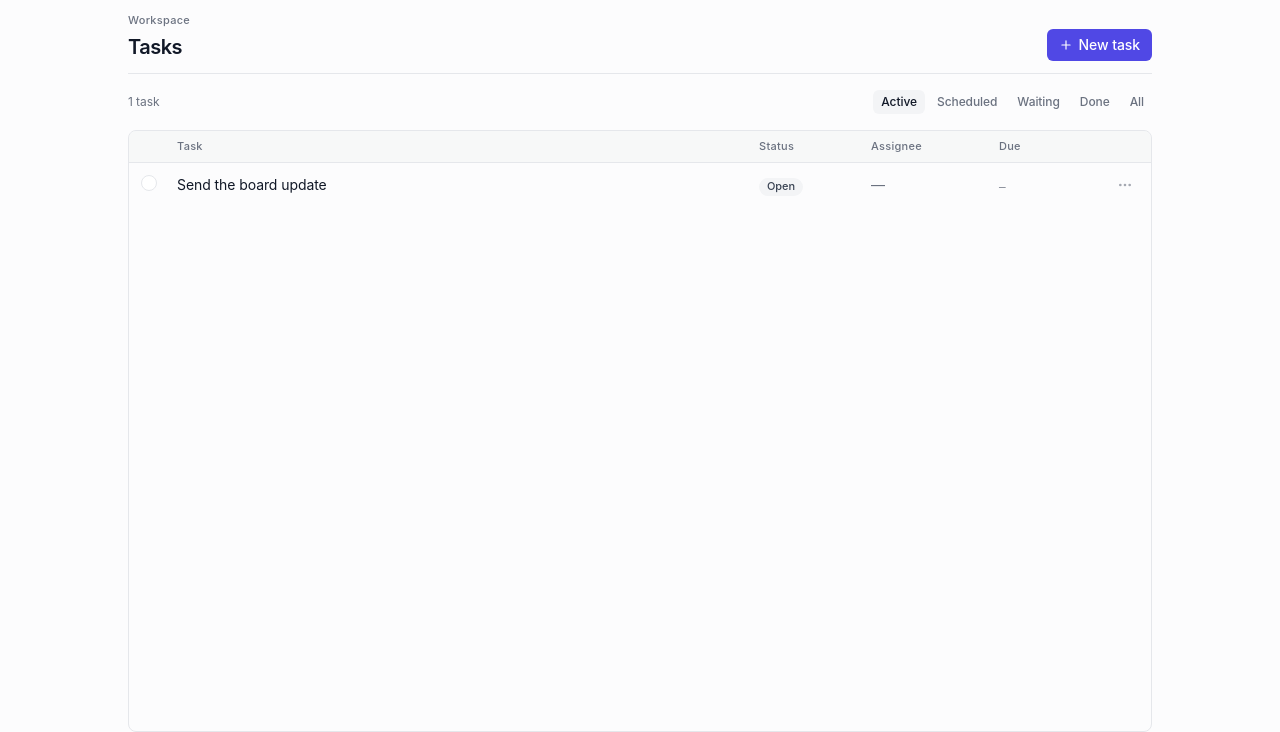
Scenario: TasksSurface completion › restores a filtered task and keeps its keyed write failure visible
The width and height of the screenshot is (1280, 732).
Click the checkbox named "Complete Send the board update" at (149, 183), box [141,175,157,191]
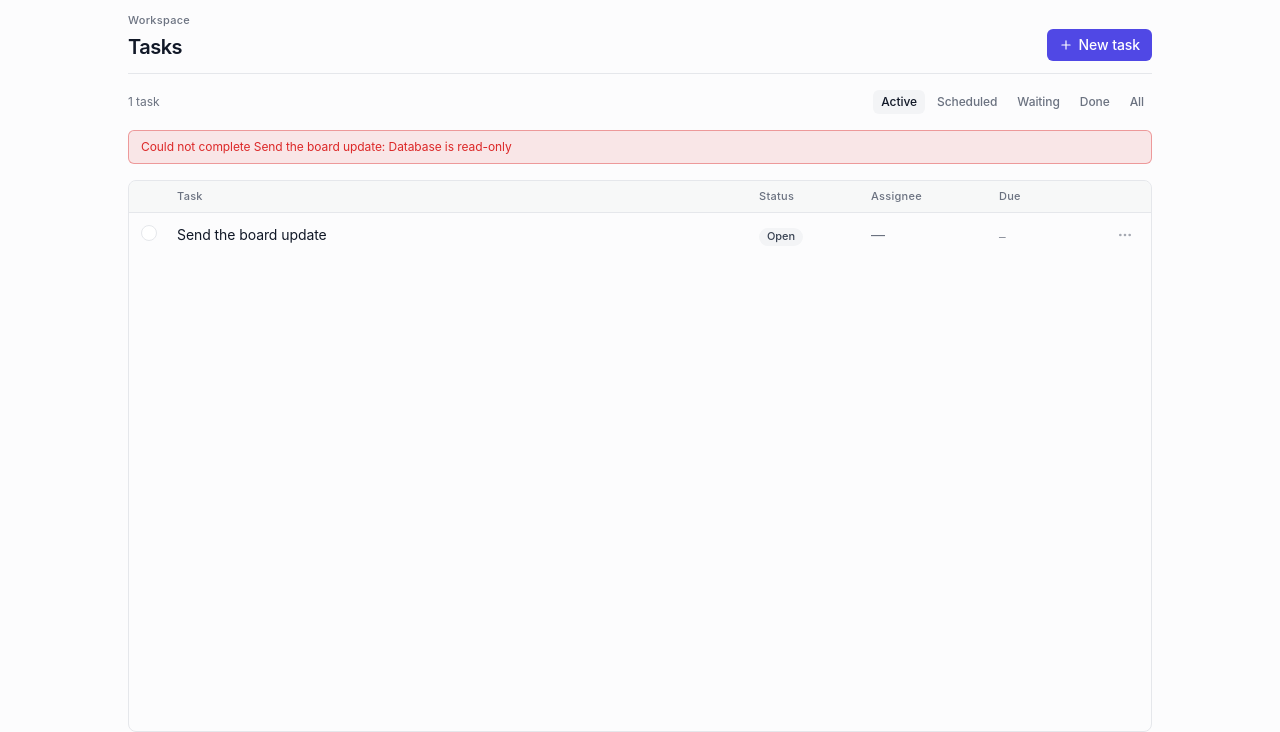
expect the checkbox named "Complete Send the board update" is shown: met, box [141,225,157,241]
expect the message reads "Could not complete Send the board update: Database is read-only": met, box [128,130,1152,164]
